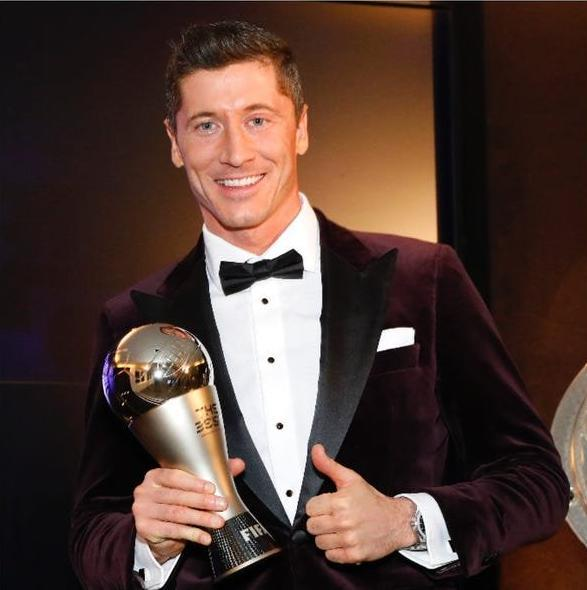Sober: (180, 82, 300, 219)
